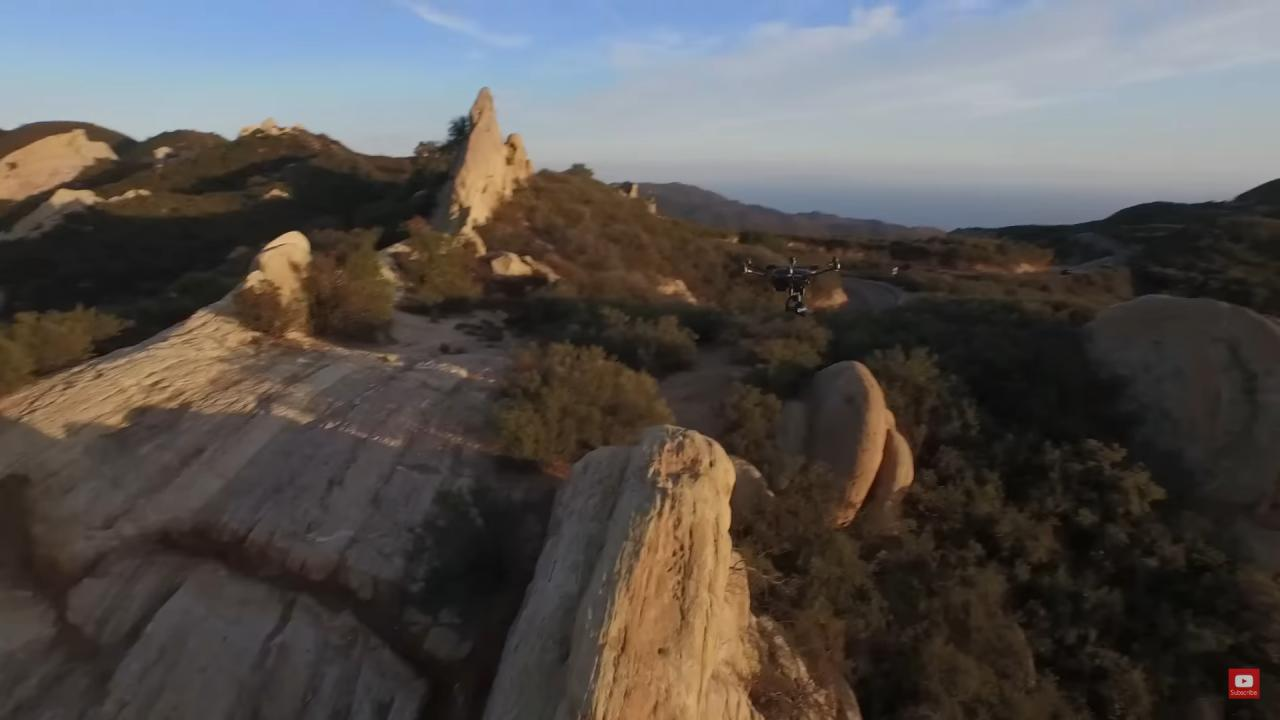Drone: (722, 246, 863, 326)
